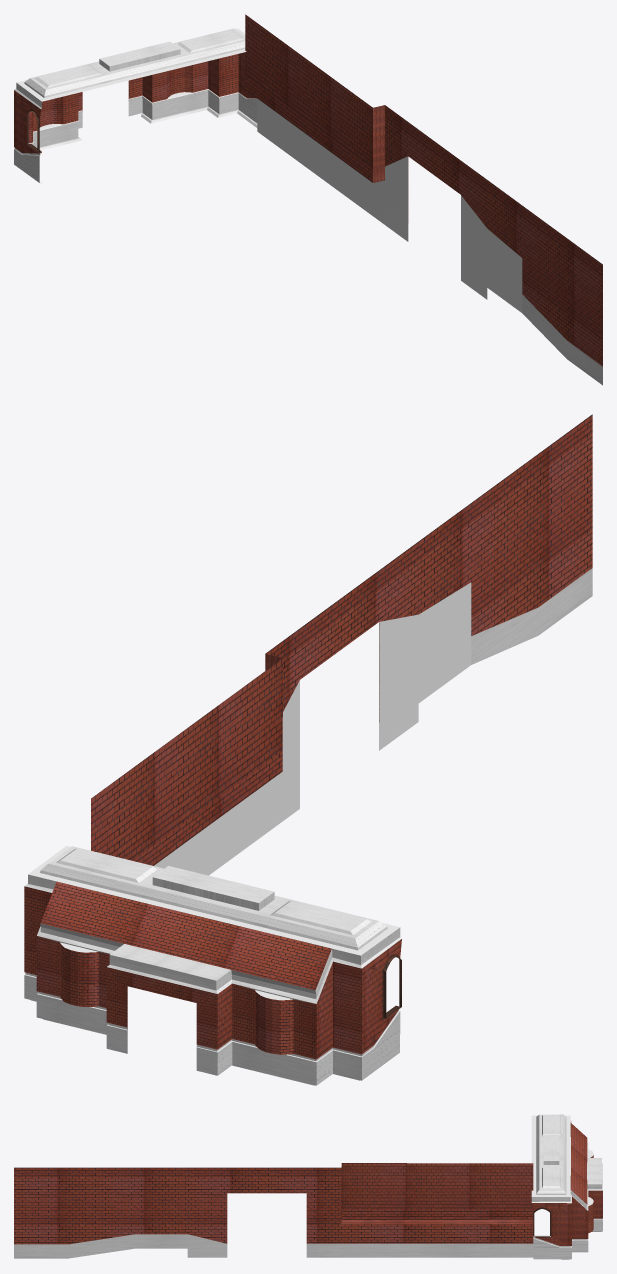
Rendered from Outdoor wall.fbx.
3 views of the same model, one above another, from view 1: azimuth 30°, elevation 25°; view 2: azimuth 150°, elevation 25°; view 3: azimuth 270°, elevation 25° (orthographic). The views are drawn at different scales.
Visible parts, largest first — view 1: polySurface589, polySurface587; view 2: polySurface589, polySurface587; view 3: polySurface589, polySurface587.
Boxes of the visible parts, bbox=[...] form: polySurface589: bbox=[245, 14, 602, 385]; polySurface587: bbox=[14, 28, 257, 182]; polySurface589: bbox=[91, 414, 592, 875]; polySurface587: bbox=[24, 846, 401, 1085]; polySurface589: bbox=[14, 1163, 533, 1258]; polySurface587: bbox=[531, 1114, 602, 1259].
Bounding box in the file's own units: 48.79 × 24.79 × 145.
4 materials, 3 textured.
